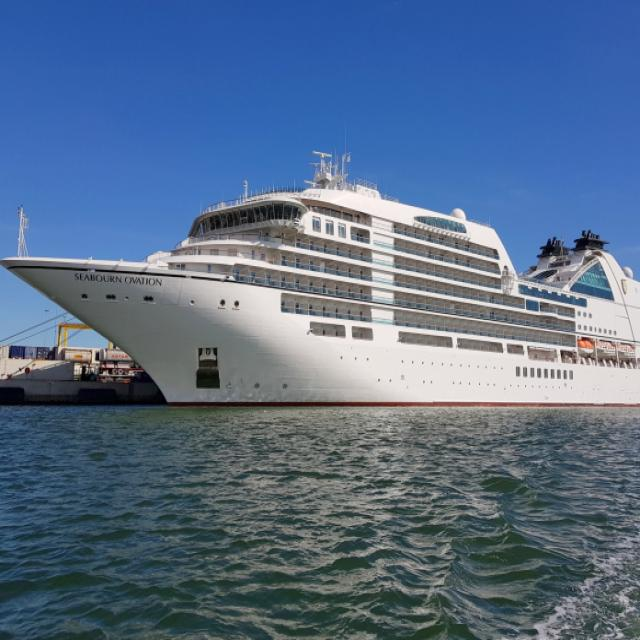cruises: (1, 145, 640, 416)
